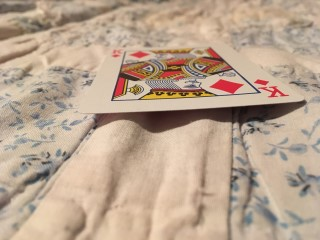KingOfDiamonds: (77, 44, 305, 114)
